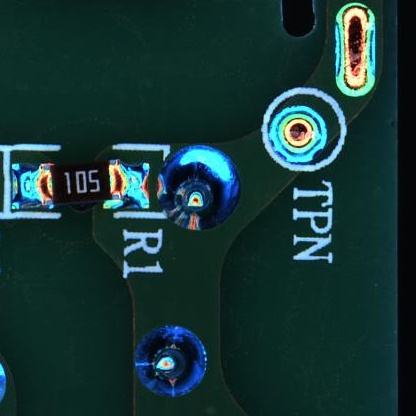spot: (158, 143, 242, 233), (133, 325, 209, 398), (334, 2, 377, 98), (268, 105, 329, 166)
